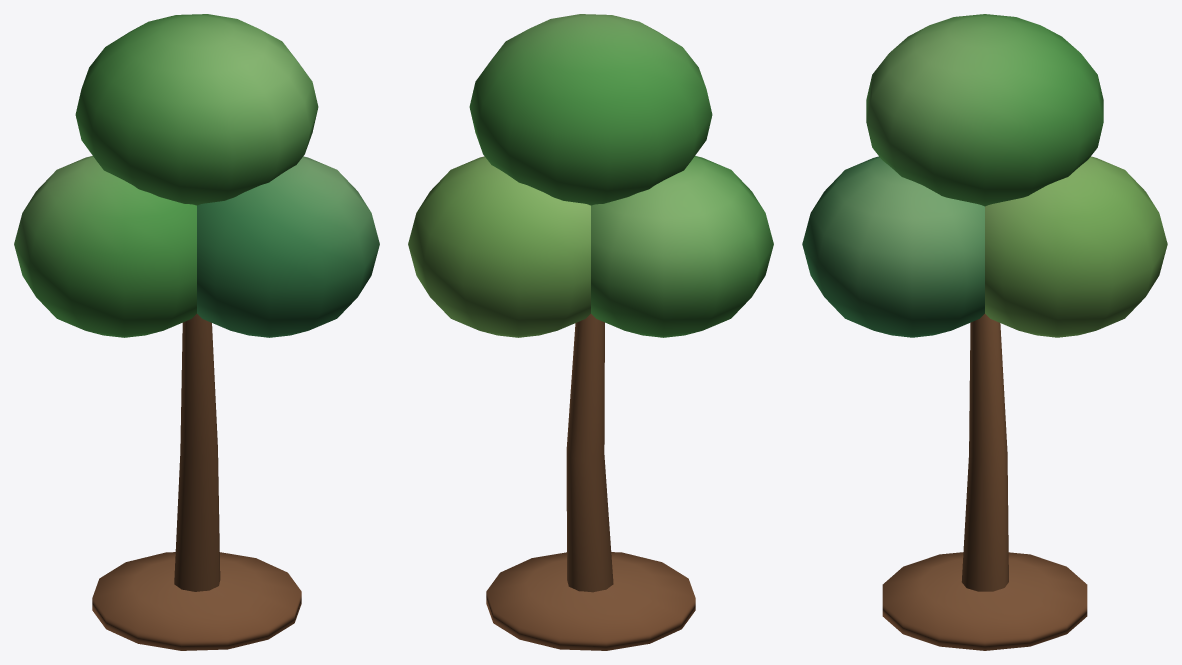
Rendered from storybook-plant-apple.glb.
The picture shows the model from 3 angles, left to right: view 1: azimuth 30°, elevation 25°; view 2: azimuth 150°, elevation 25°; view 3: azimuth 270°, elevation 25°; orthographic projection.
Parts seen in each view (by area): view 1: storybook-plant-apple; view 2: storybook-plant-apple; view 3: storybook-plant-apple.
Boxes of the visible parts, x1,y1,x2,y2 form: storybook-plant-apple: [14, 14, 379, 650]; storybook-plant-apple: [408, 14, 773, 650]; storybook-plant-apple: [802, 14, 1167, 650].
Size of the model in its own units: 1.57 by 2.96 by 1.66.
